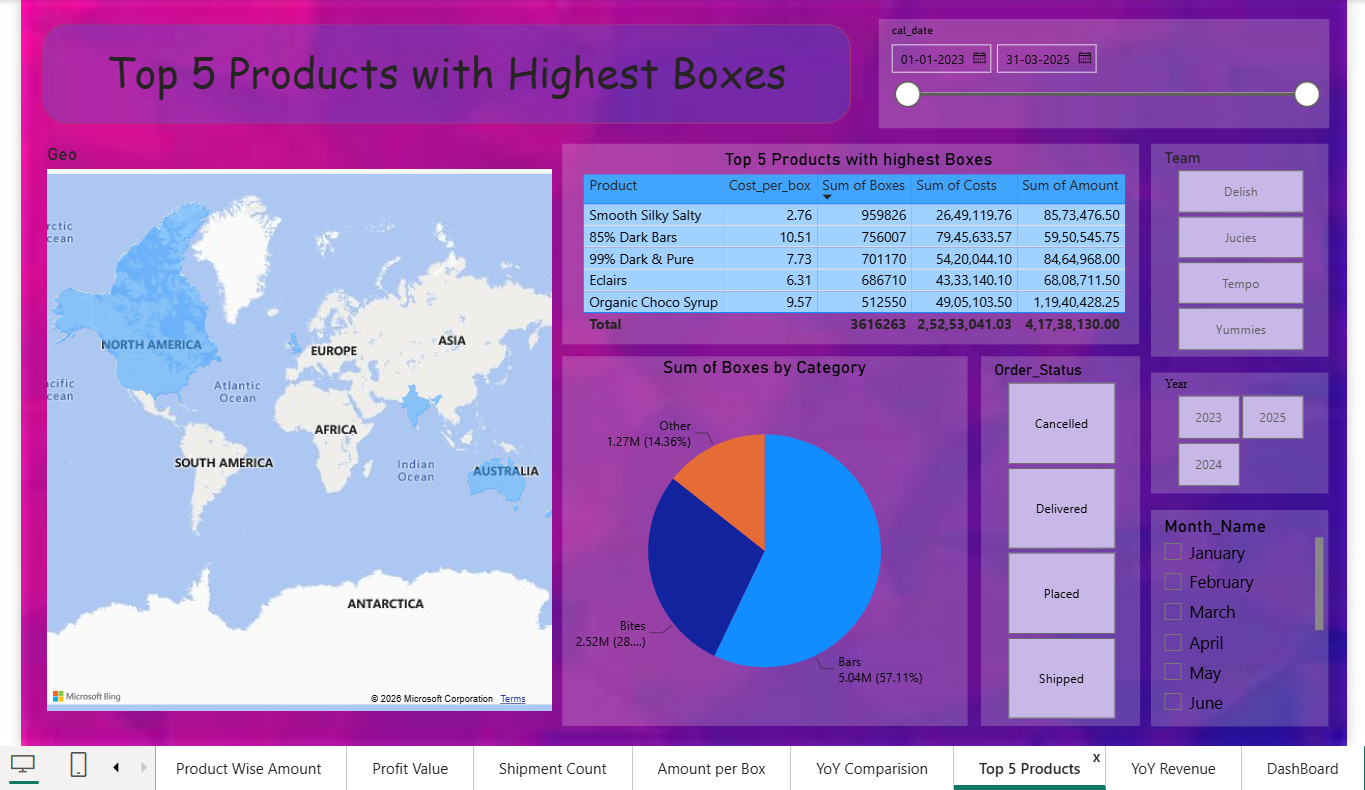

This screenshot's page, from the dashboard's own definition file:
{"tool":"powerbi","page":{"name":"Top 5 Products","canvas":[1280,720],"ordinal":5},"visuals":[{"type":"filledMap","fields":{"Category":["locations.Geo"]},"box":[20.6,138.6,496.7,562.6],"z":0},{"type":"tableEx","title":"Top 5 Products with highest Boxes","fields":{"Values":["products.Product","products.Cost_per_box","Sum(shipments.Boxes)","Sum(shipments.Costs)","Sum(shipments.Amount)"]},"box":[522.8,138.6,557.1,193.5],"z":1000},{"type":"pieChart","fields":{"Category":["products.Category"],"Y":["Sum(shipments.Boxes)"]},"box":[522.8,344.4,391.1,356.8],"z":2000},{"type":"slicer","fields":{"Values":["shipments.Order_Status"]},"box":[926.2,344.4,153.7,356.8],"z":3000},{"type":"slicer","fields":{"Values":["calendar.cal_date"]},"box":[827.4,17.8,435,105.7],"z":4000},{"type":"slicer","fields":{"Values":["people.Team"]},"box":[1090.9,138.6,171.5,205.8],"z":5000},{"type":"slicer","fields":{"Values":["calendar.month_name"]},"box":[1090.9,492.6,171.5,208.6],"z":6000},{"type":"shape","box":[20.5,22.9,780.6,96.5],"z":7000},{"type":"slicer","fields":{"Values":["calendar.year"]},"box":[1090.9,359.5,171.5,116.6],"z":8000},{"type":"textbox","title":"Top 5 Products with Highest Boxes","box":[42.2,41,737.1,63.9],"z":8501}]}

Visuals, with their boxes on the page's 1280x720 design canvas (x1, y1, x2, y2). These are canvas units, not pixel positions in the 1365x790 screenshot, which may show the page scaled, cropped or inside an application window:
filledMap - locations.Geo: 21 139 517 701
"Top 5 Products with highest Boxes" tableEx: 523 139 1080 332
pieChart - products.Category x Sum(shipments.Boxes): 523 344 914 701
slicer - shipments.Order_Status: 926 344 1080 701
slicer - calendar.cal_date: 827 18 1262 124
slicer - people.Team: 1091 139 1262 344
slicer - calendar.month_name: 1091 493 1262 701
shape: 20 23 801 119
slicer - calendar.year: 1091 360 1262 476
"Top 5 Products with Highest Boxes" textbox: 42 41 779 105
